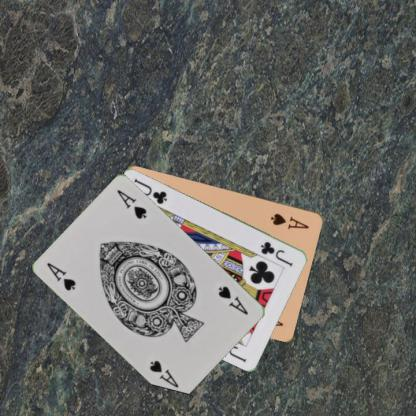As: (44, 259, 77, 292), (216, 284, 249, 316), (268, 210, 311, 230)
Jc: (258, 239, 294, 268)
